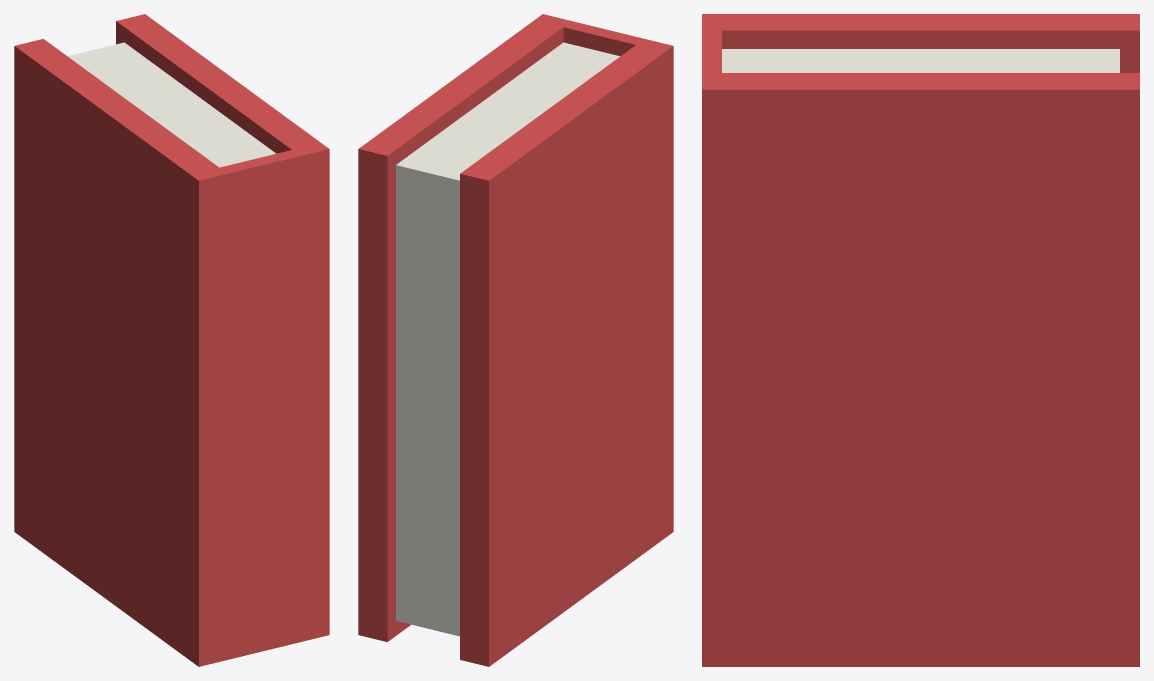
Rendered from Book_Red_Light.fbx.
3 views of the same model, side by side, from view 1: azimuth 30°, elevation 25°; view 2: azimuth 150°, elevation 25°; view 3: azimuth 270°, elevation 25° (orthographic). The views are drawn at different scales.
Parts seen in each view (by area): view 1: pCube6; view 2: pCube6; view 3: pCube6.
Part boxes in pixels (<box>): pCube6: <box>14,14,329,666</box>; pCube6: <box>358,14,673,666</box>; pCube6: <box>702,14,1139,666</box>.
Bounding box in the file's own units: 9 × 32 × 22.
